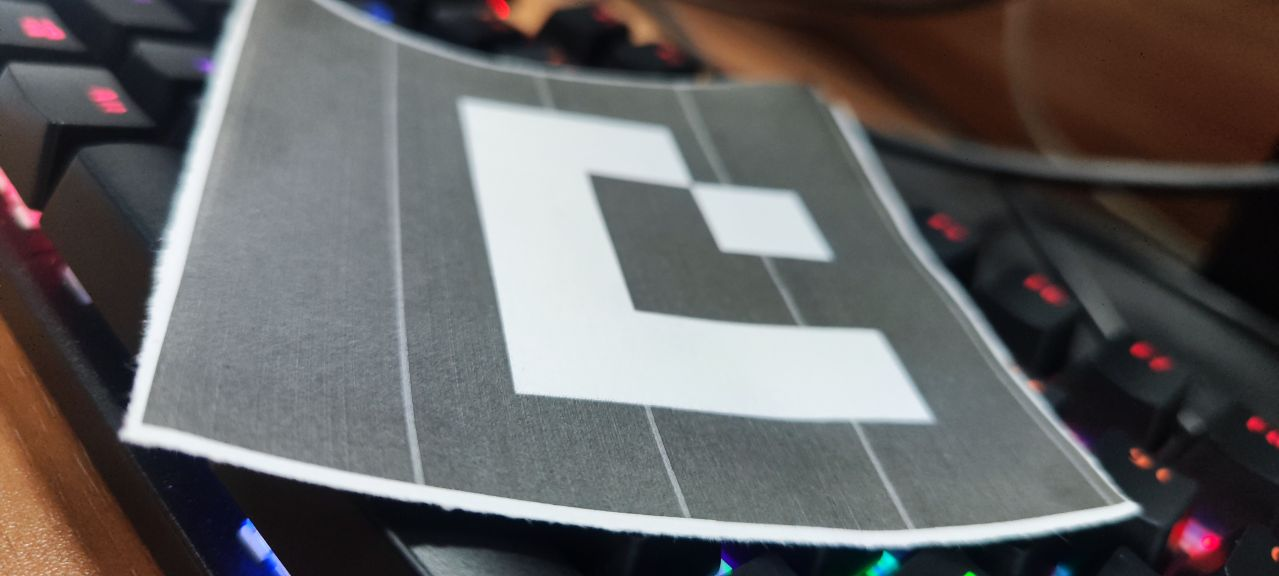mark1: (453, 89, 939, 441)
